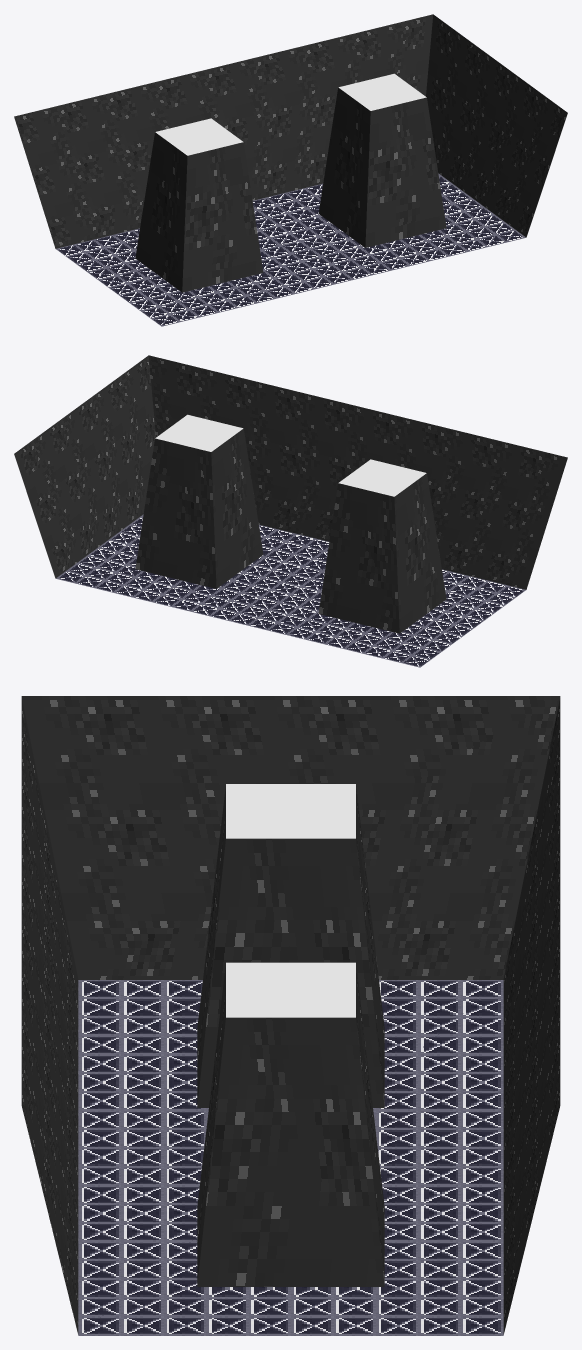
Rendered from lab.glb.
3 views of the same model, one above another, from view 1: azimuth 30°, elevation 25°; view 2: azimuth 150°, elevation 25°; view 3: azimuth 270°, elevation 25° (orthographic). The views are drawn at different scales.
Parts seen in each view (by area): view 1: Level, Cube.003, Cube.001; view 2: Level, Cube.003, Cube.001; view 3: Level, Cube.001, Cube.003.
Boxes of the visible parts, <box> form: Level: <box>14,14,567,326</box>; Cube.003: <box>135,118,263,292</box>; Cube.001: <box>318,73,446,247</box>; Level: <box>14,355,567,667</box>; Cube.003: <box>318,459,446,633</box>; Cube.001: <box>135,414,263,588</box>; Level: <box>21,696,560,1335</box>; Cube.001: <box>197,962,384,1286</box>; Cube.003: <box>197,784,384,1107</box>.
Size of the model in its own units: 13.65 by 4 by 7.6.
Materials: 3 (2 with a texture image).
